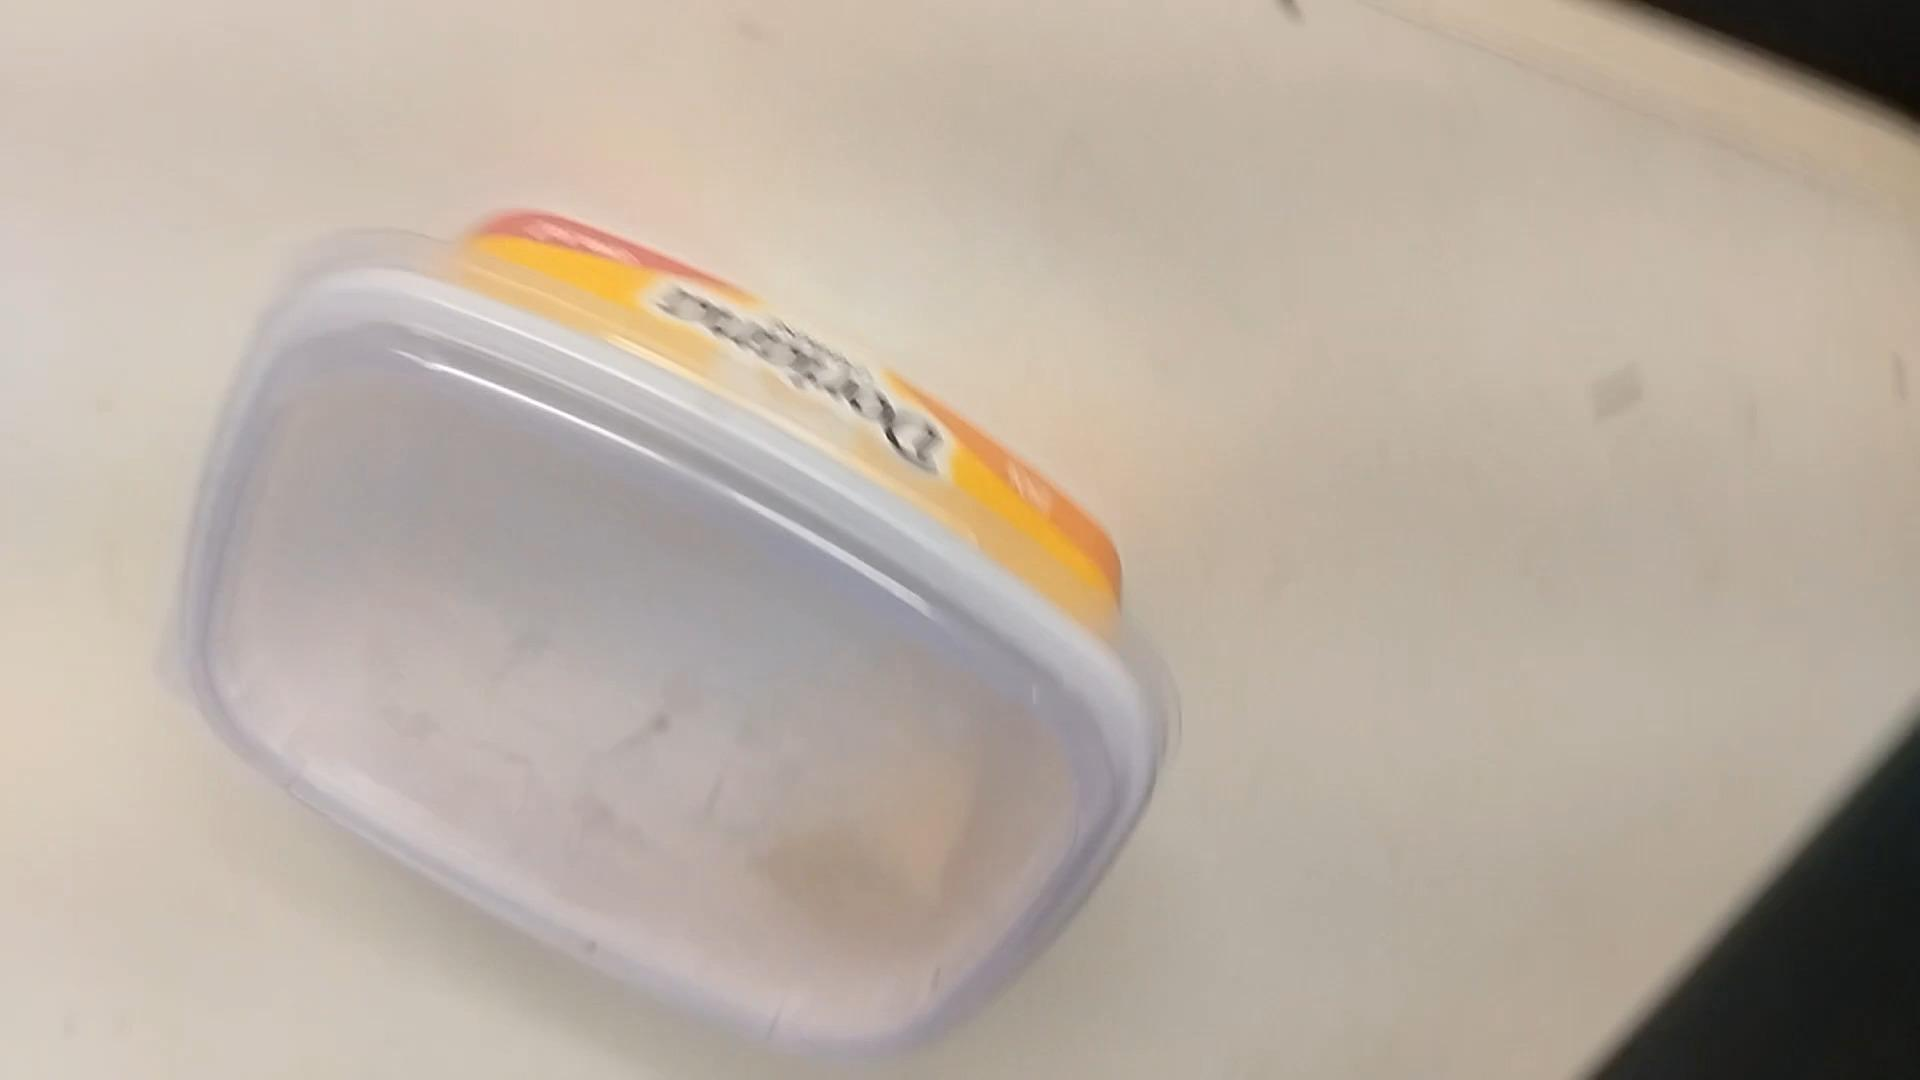butter: (158, 206, 1175, 1063)
